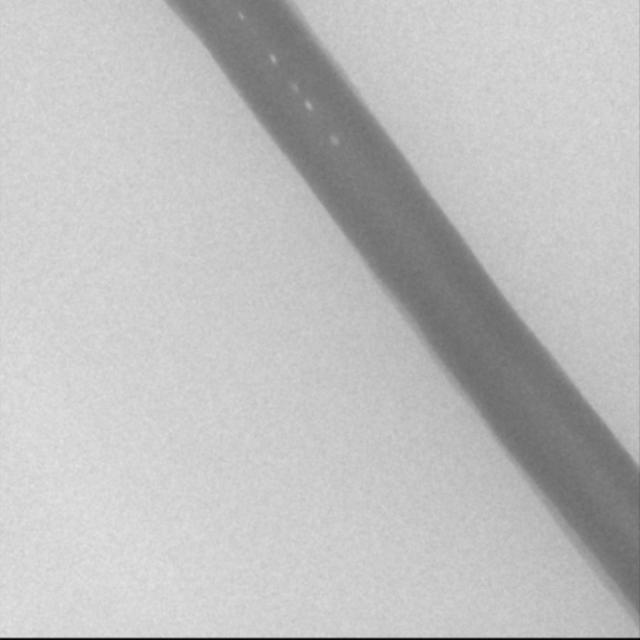air hole: (327, 132, 339, 147), (304, 98, 313, 111), (268, 52, 277, 64), (237, 10, 245, 22)
